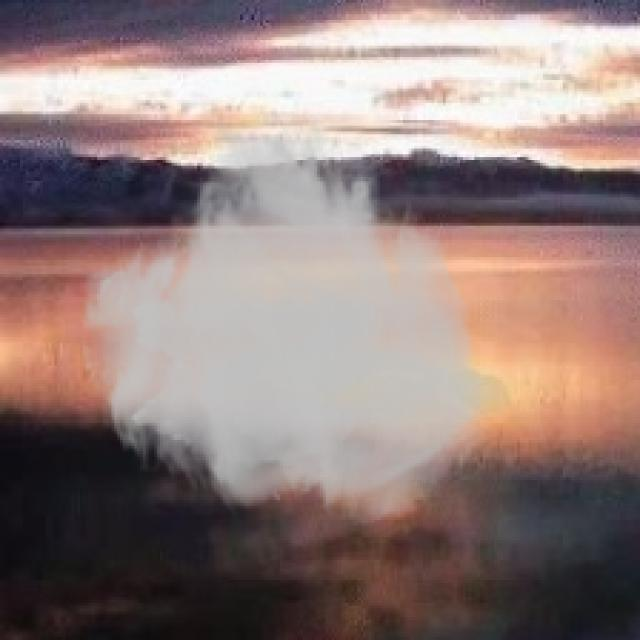Smoke: (77, 106, 492, 528)
